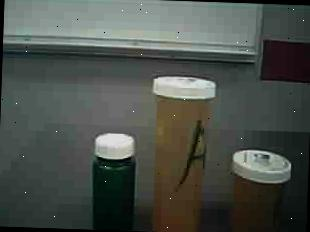Bottle A: (142, 66, 223, 232)
Bottle B: (227, 144, 291, 232)
